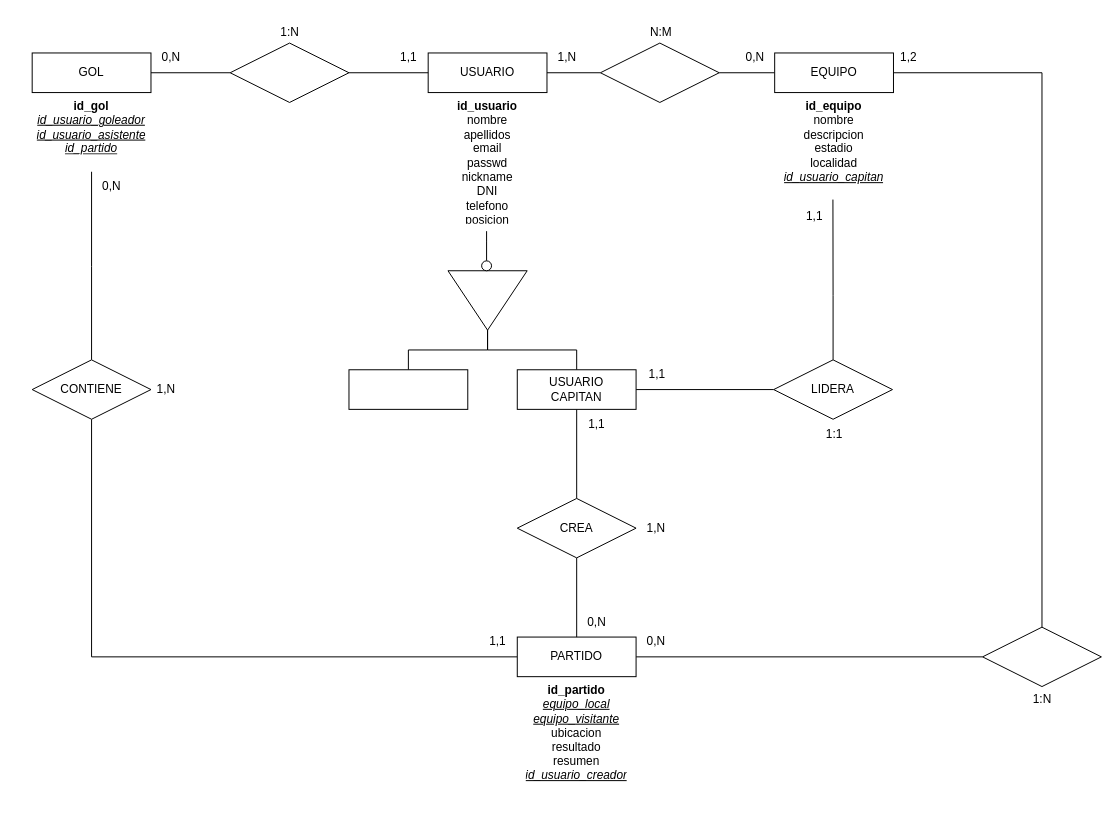
This 1119x825 diagram has some shape labels left out. The shapes that lost their labels are listed below. From the top down, each one's centre as x and y in pixels, then its label:
At pixel 289 72: "REALIZA".
At pixel 659 72: "PERTENECE".
At pixel 408 389: "USUARIO REGULAR".
At pixel 1041 656: "PARTICIPA".
